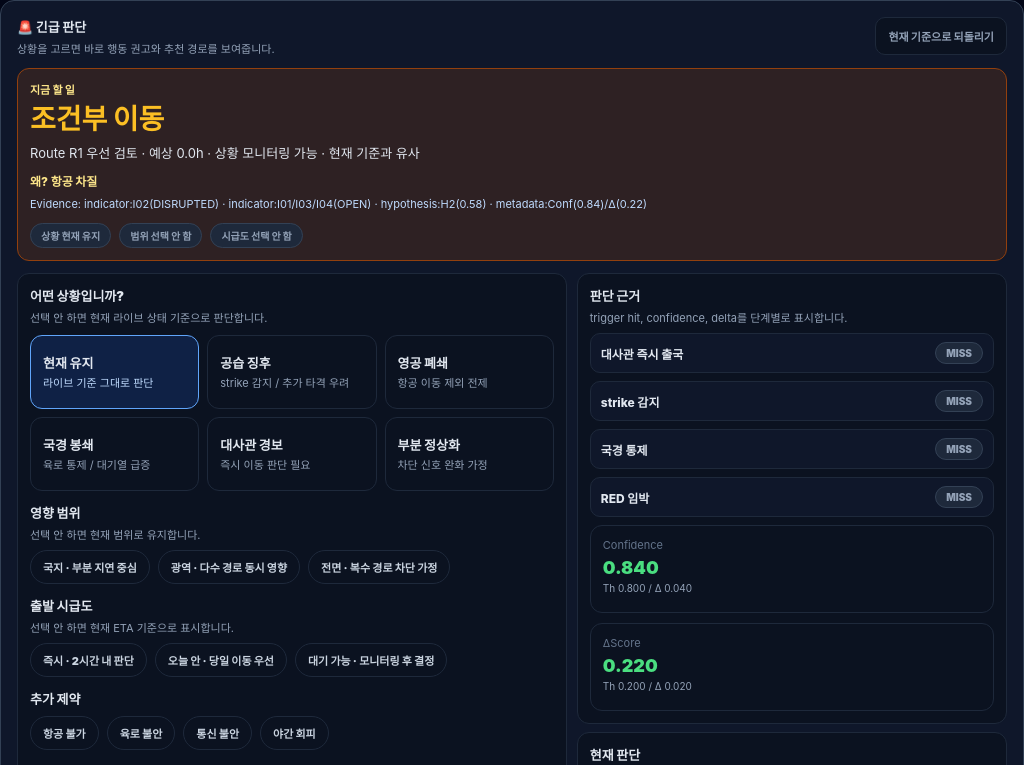
Test: Simulator › resets the simulated decision back to the live baseline
Click the button "영공 폐쇄 항공 이동 제외 전제" at (469, 372), box [384,335,554,409]
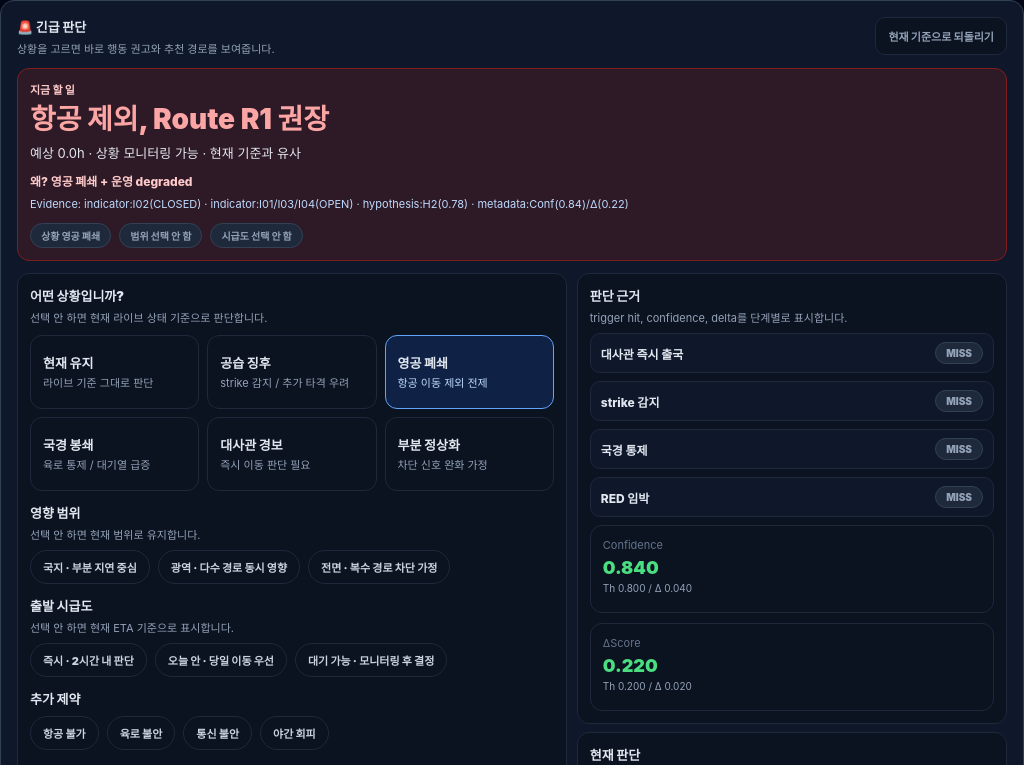
Result: the text "항공 제외, Route R1 권장" is shown at [30,102,329,136]
Click the button "현재 기준으로 되돌리기" at (941, 36), box [875,17,1007,55]
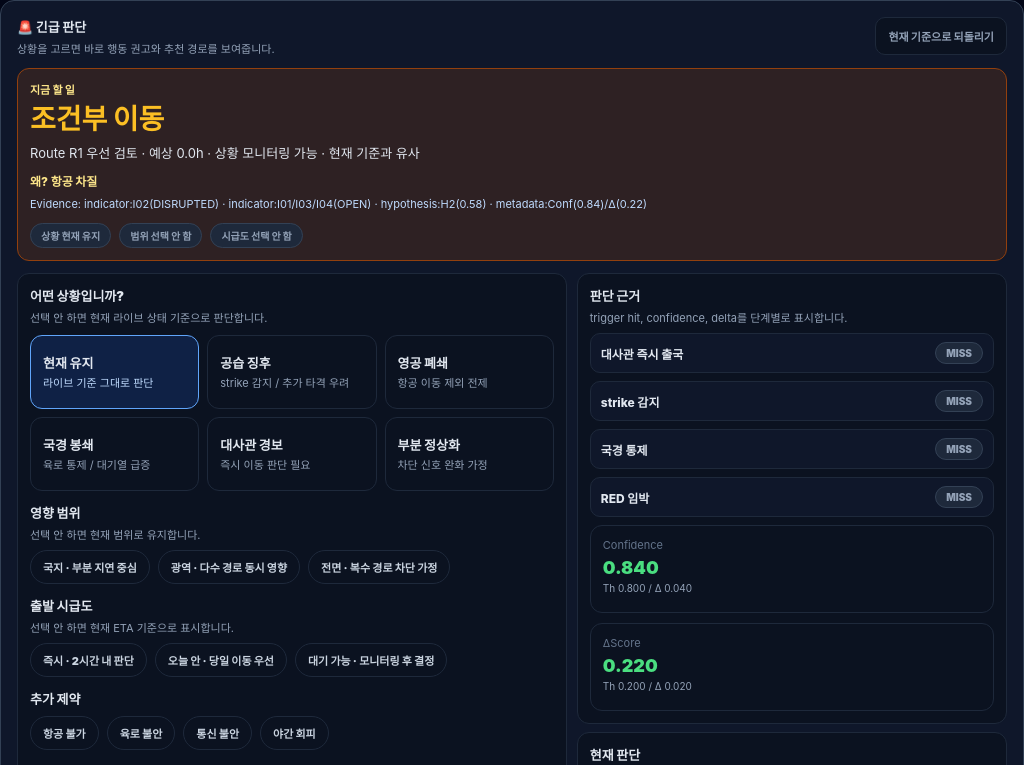
Result: the text "조건부 이동" is shown at [30,102,164,136]
Result: the text "상황 현재 유지" is shown at [30,223,111,248]
Result: the text "항공 제외, Route R1 권장" is gone
